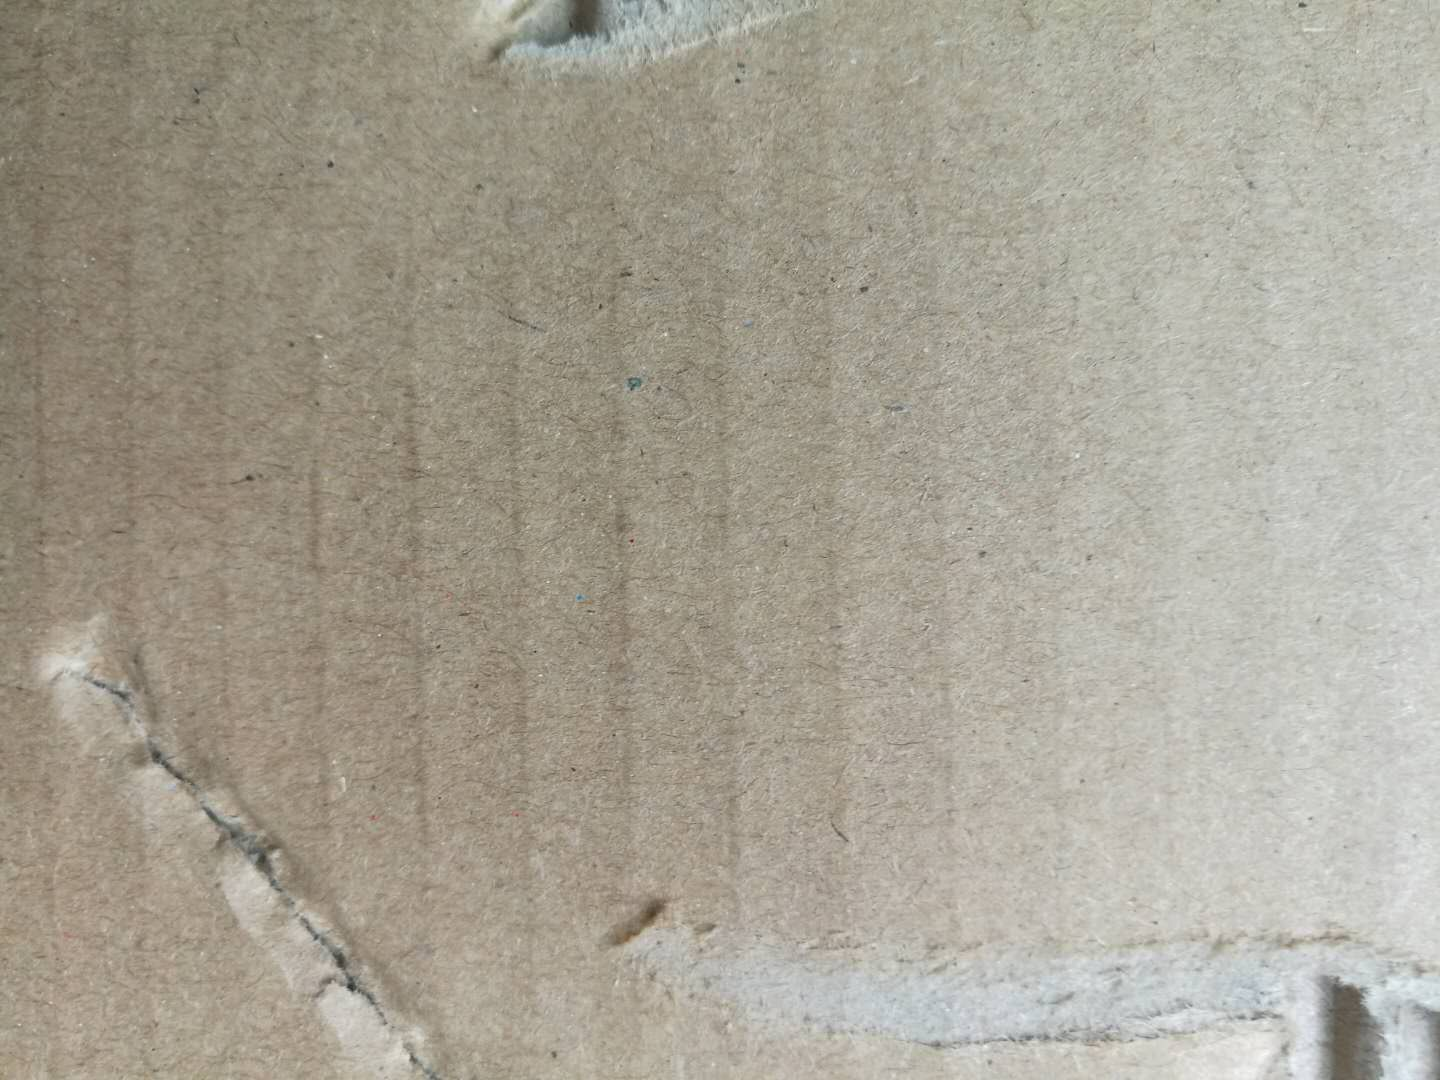defect: (6, 590, 549, 1080), (577, 847, 1440, 1079), (441, 1, 903, 111)
